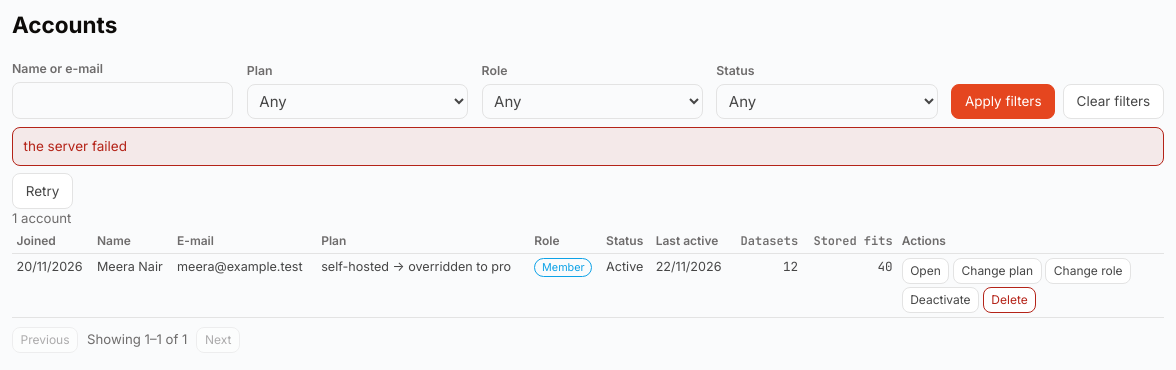
Test: UsersPage — the list › keeps the list working when the plans cannot be loaded: the plan filter offers only Any, and a Retry loads them
Check: the table named "Accounts" is shown, box [12,229,1164,318]
Check: the message reads "the server failed", box [24,138,127,154]
What coordinates should you click on to do the following:
click the button "Retry"
I would click on:
 (43, 191)
Its box is [12,173,73,209].
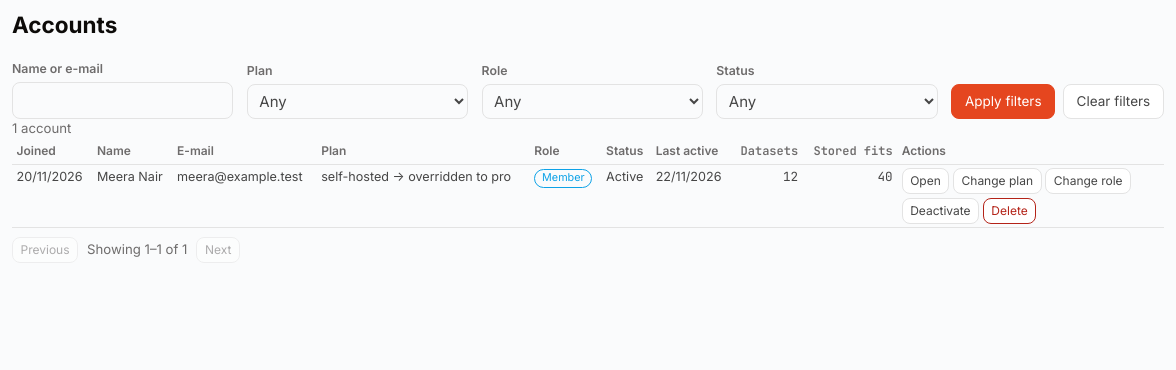
Check: the message "the server failed" is gone
